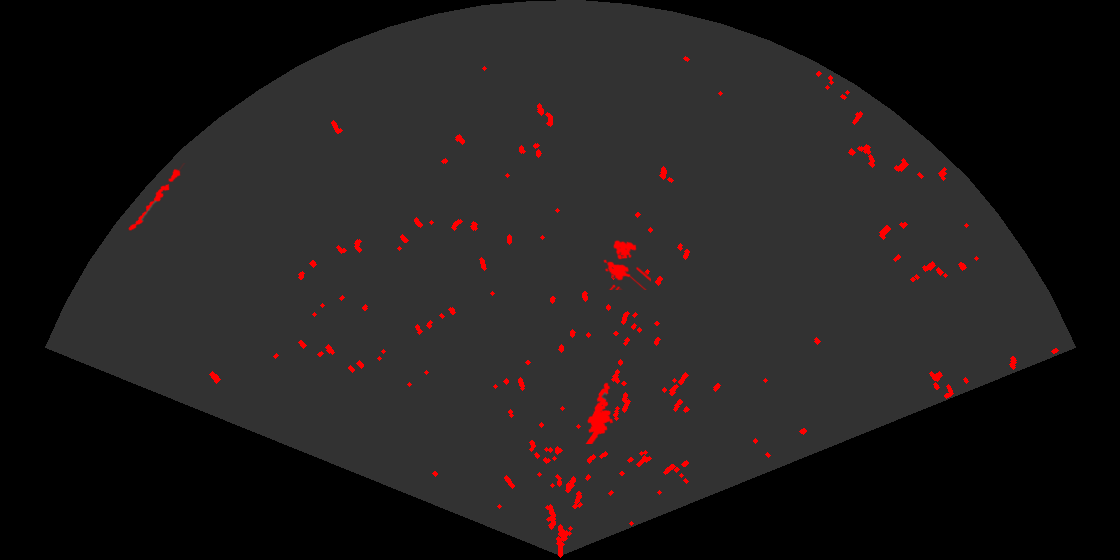cage: (602, 238, 651, 290)
chain: (127, 163, 187, 232)
frogman: (584, 381, 615, 444)
